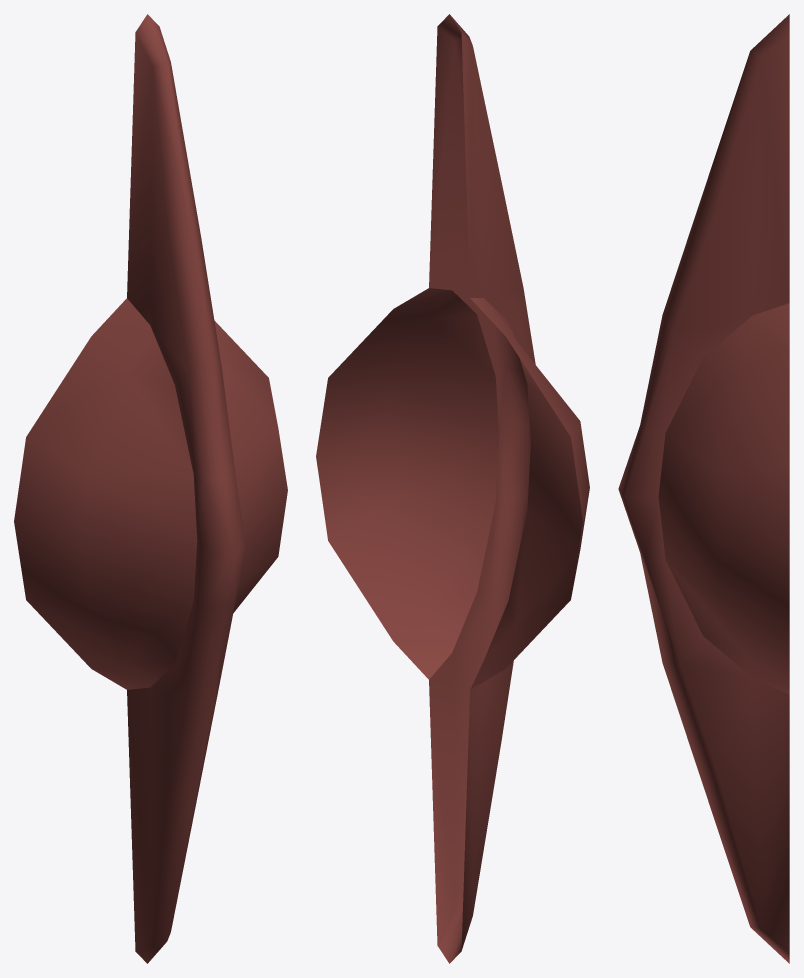
Rendered from spina_g.dae.
3 renders of one model, left to right at view 1: azimuth 30°, elevation 25°; view 2: azimuth 150°, elevation 25°; view 3: azimuth 270°, elevation 25°, orthographic.
Visible parts, largest first — view 1: Spina_G; view 2: Spina_G; view 3: Spina_G.
Boxes of the visible parts, x1,y1,x2,y2 form: Spina_G: (14,14,287,963); Spina_G: (316,14,589,963); Spina_G: (618,14,789,963).
Bounding box in the file's own units: 0.3092 × 0.1717 × 1.05.
